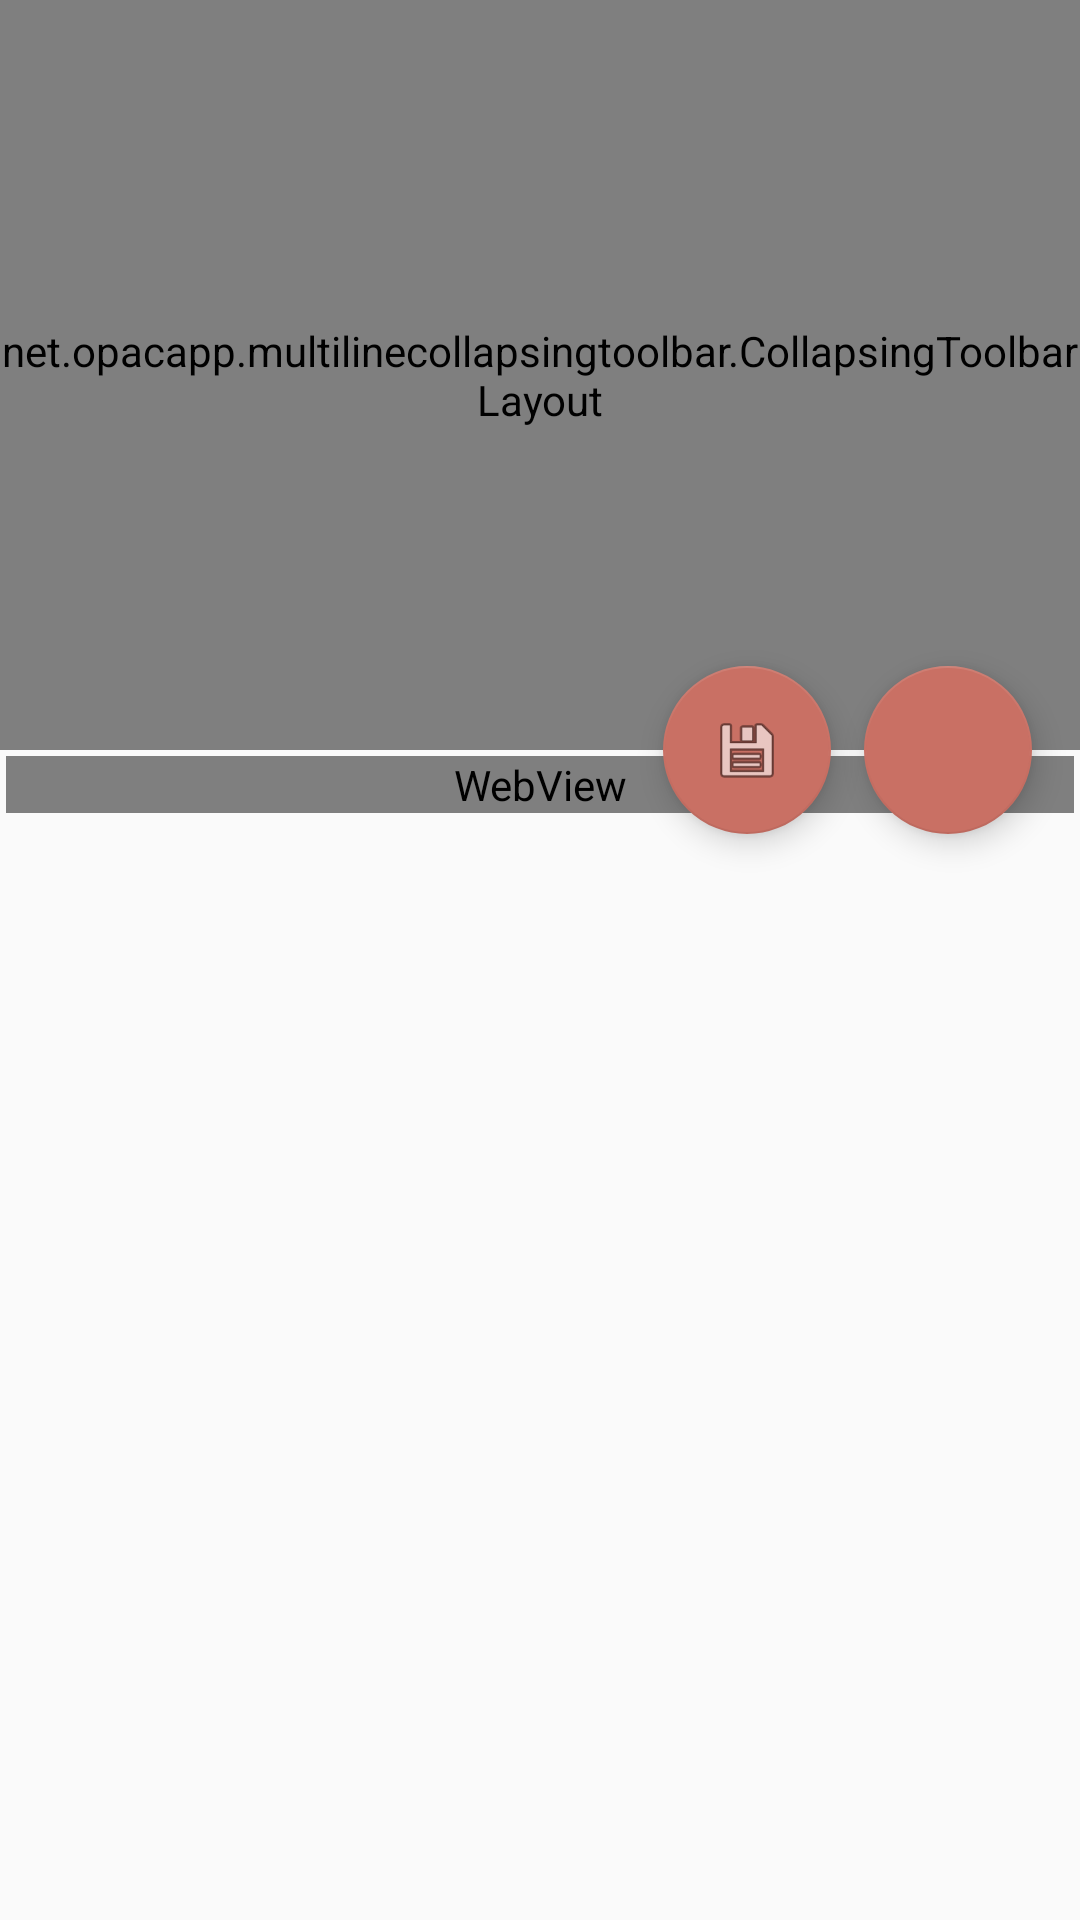

Screen size 1080px×1920px. Icon name, then its box in pixels as (x1,y1,x2,y2):
save: (663,666,831,834)
